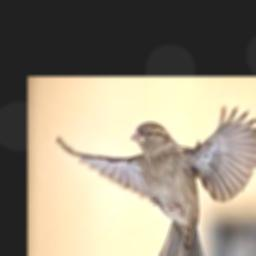Sparrow: (57, 105, 256, 256)
